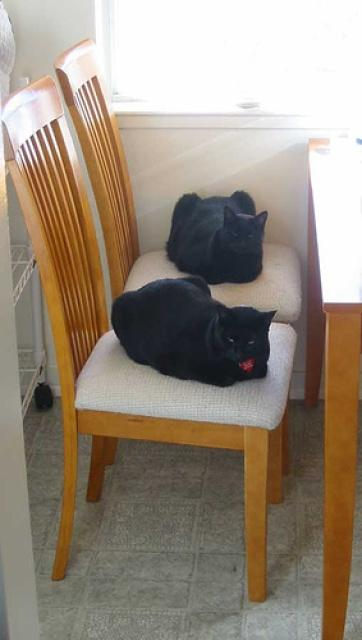Kursi: (1, 74, 297, 603), (54, 35, 304, 324)
